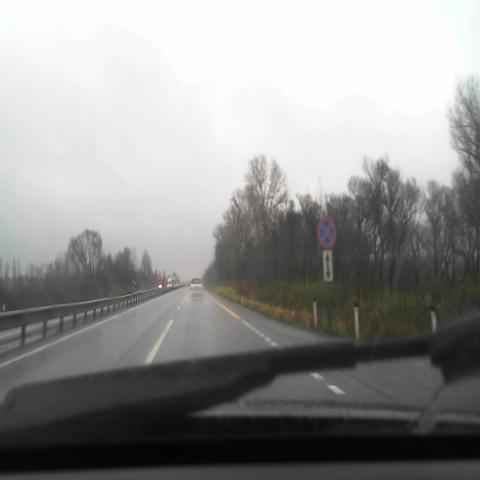8_2_4: (322, 250, 333, 281)
